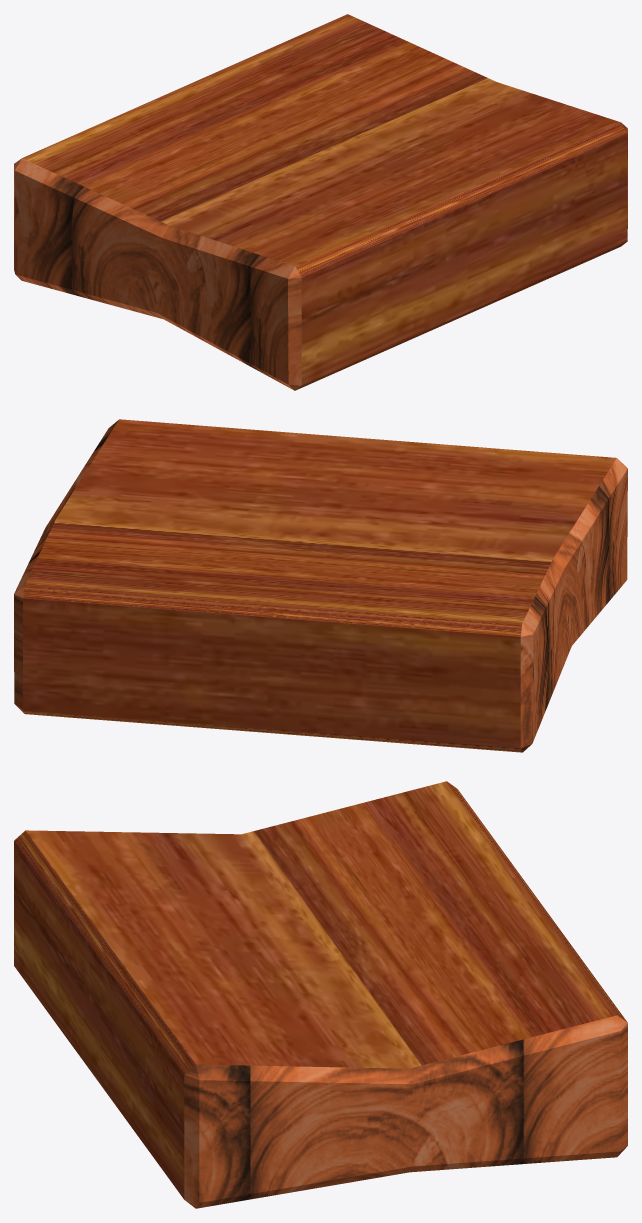
Rendered from yuandeng_D_saizi_02.FBX.
3 views of the same model, one above another, from view 1: azimuth 30°, elevation 25°; view 2: azimuth 150°, elevation 25°; view 3: azimuth 270°, elevation 25° (orthographic). The views are drawn at different scales.
Parts seen in each view (by area): view 1: yuandeng_D_saizi_02; view 2: yuandeng_D_saizi_02; view 3: yuandeng_D_saizi_02.
Boxes of the visible parts, left/top/right/bottom form: yuandeng_D_saizi_02: left=14, top=14, right=627, bottom=390; yuandeng_D_saizi_02: left=14, top=419, right=627, bottom=752; yuandeng_D_saizi_02: left=14, top=781, right=627, bottom=1208.
Size of the model in its own units: 3.5 by 0.8667 by 3.16.
Materials: 2 (2 with a texture image).
